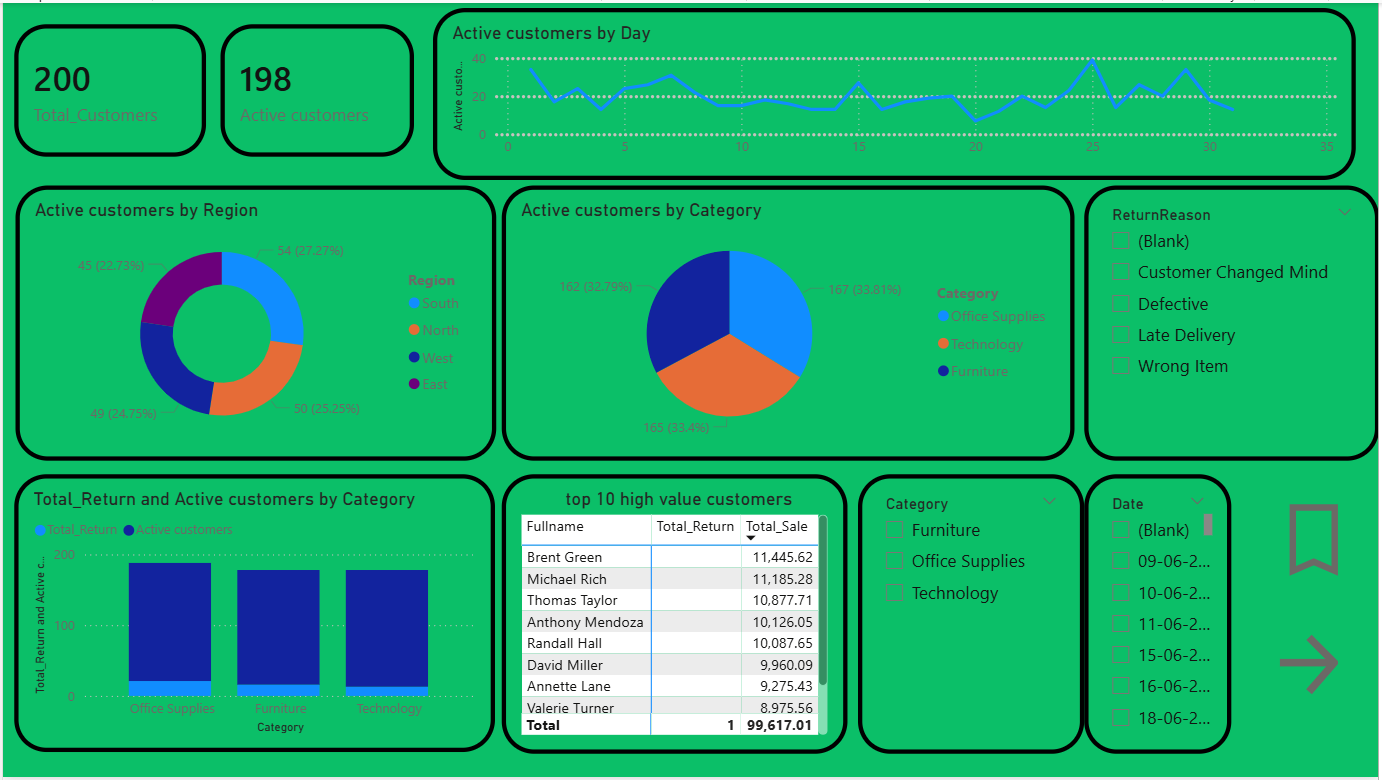

What the dashboard file says about the page in this screenshot:
{"tool":"powerbi","page":{"name":"Customer","canvas":[1280,720],"ordinal":2},"visuals":[{"type":"cardVisual","fields":{"Data":["Customer_Dim.Total_Cust"]},"box":[10,20,178.6,122.9],"z":0},{"type":"cardVisual","fields":{"Data":["Sales_Fact.Active customers"]},"box":[202.9,20,180,122.9],"z":1000},{"type":"donutChart","fields":{"Category":["Customer_Dim.Region"],"Y":["Sales_Fact.Active customers"]},"box":[11.4,170,447.1,255.7],"z":2000},{"type":"columnChart","fields":{"Y":["Returns_Fact.Total_Return","Sales_Fact.Active customers"],"Category":["Product_Dim.Category"]},"box":[10,438.6,447.1,258.6],"z":3000},{"type":"pieChart","fields":{"Y":["Sales_Fact.Active customers"],"Category":["Product_Dim.Category"]},"box":[464.3,170,532.9,255.7],"z":4000},{"type":"pivotTable","title":"top 10 high value customers","fields":{"Rows":["Customer_Dim.Fullname"],"Values":["Returns_Fact.Total_Return","Sales_Fact.Total_Sale"]},"box":[464.3,438.6,321.4,260],"z":5000},{"type":"lineChart","fields":{"Y":["Sales_Fact.Active customers"],"Category":["Date_Dim.Date.Variation.Date Hierarchy.Day"]},"box":[400,4.3,858.6,160],"z":6000},{"type":"slicer","fields":{"Values":["Returns_Fact.ReturnReason"]},"box":[1005.7,170,274.3,255.7],"z":7000},{"type":"slicer","fields":{"Values":["Product_Dim.Category"]},"box":[795.7,438.6,210,260],"z":8000},{"type":"slicer","fields":{"Values":["Date_Dim.Date"]},"box":[1005.7,438.6,137.1,260],"z":9000},{"type":"actionButton","box":[1180,458.6,78.6,81.4],"z":10000},{"type":"actionButton","box":[1180,582.9,78.6,65.7],"z":11000}]}

Visuals, with their boxes in screenshot pixels (x1, y1, x2, y2), scaled from the page's 1280x720 canvas onto the 1382x780 screenshot:
cardVisual - Customer_Dim.Total_Cust: BBox(11, 22, 204, 155)
cardVisual - Sales_Fact.Active customers: BBox(219, 22, 413, 155)
donutChart - Customer_Dim.Region x Sales_Fact.Active customers: BBox(12, 184, 495, 461)
columnChart - Returns_Fact.Total_Return x Sales_Fact.Active customers: BBox(11, 475, 494, 755)
pieChart - Sales_Fact.Active customers x Product_Dim.Category: BBox(501, 184, 1077, 461)
"top 10 high value customers" pivotTable: BBox(501, 475, 848, 757)
lineChart - Sales_Fact.Active customers x Date_Dim.Date.Variation.Date Hierarchy.Day: BBox(432, 5, 1359, 178)
slicer - Returns_Fact.ReturnReason: BBox(1086, 184, 1381, 461)
slicer - Product_Dim.Category: BBox(859, 475, 1086, 757)
slicer - Date_Dim.Date: BBox(1086, 475, 1234, 757)
actionButton: BBox(1274, 497, 1359, 585)
actionButton: BBox(1274, 631, 1359, 703)
